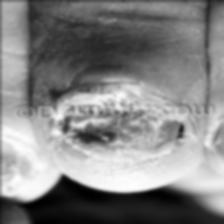Toxin: (52, 119, 193, 162), (58, 82, 186, 104), (0, 132, 40, 192)
